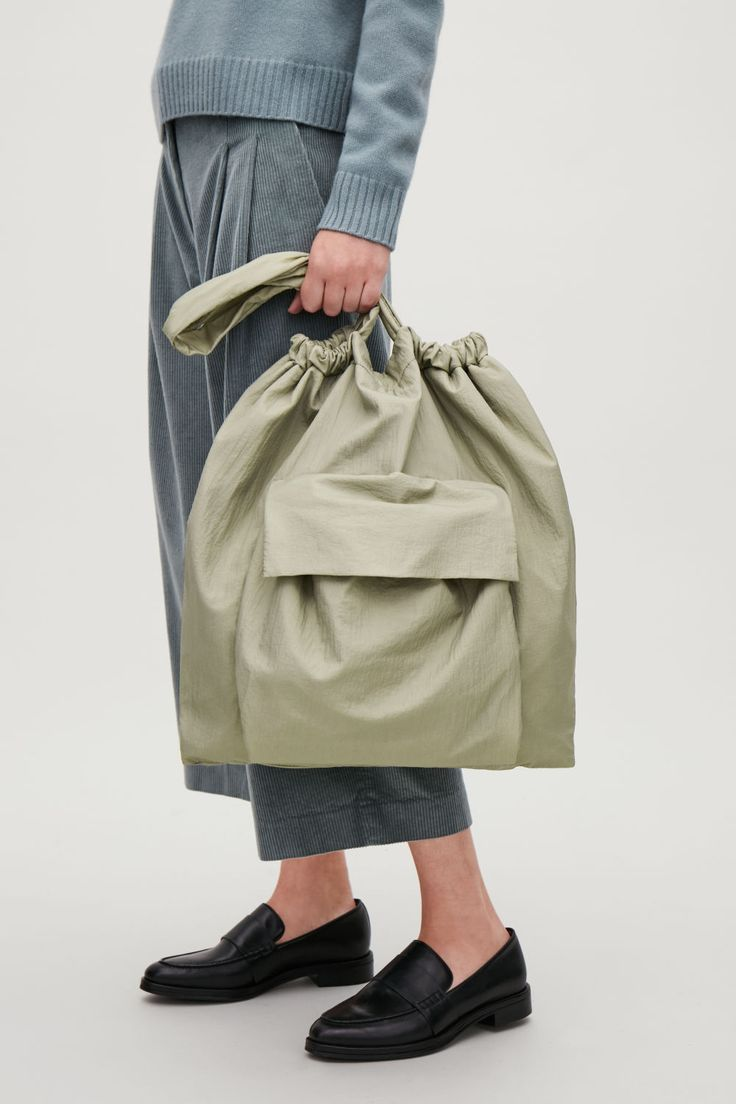nylon: (160, 253, 578, 770)
